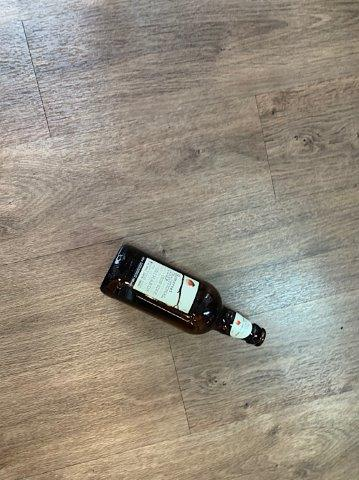botolkaca: (99, 245, 267, 349)
